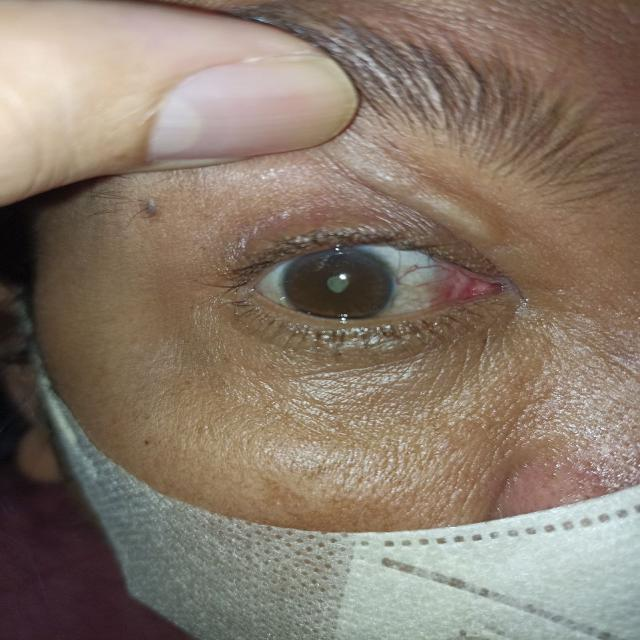Cataract: (283, 242, 392, 323)
